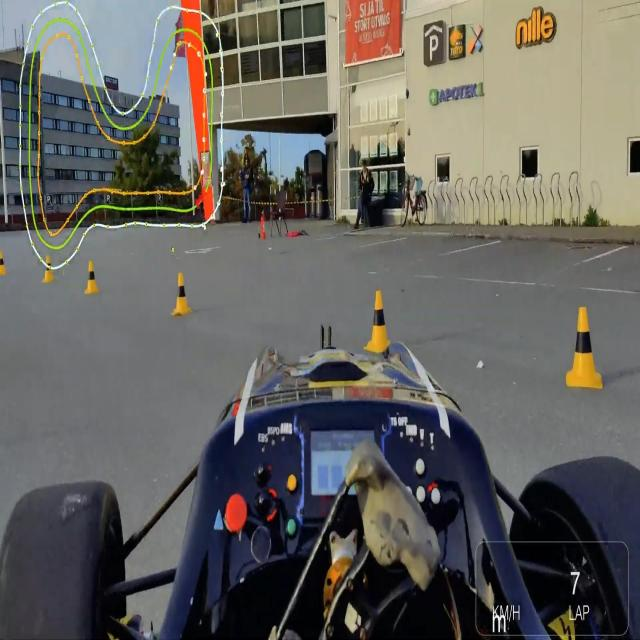yellow_cone: (562, 300, 602, 398), (365, 281, 388, 357), (164, 270, 194, 324), (80, 256, 100, 296)
